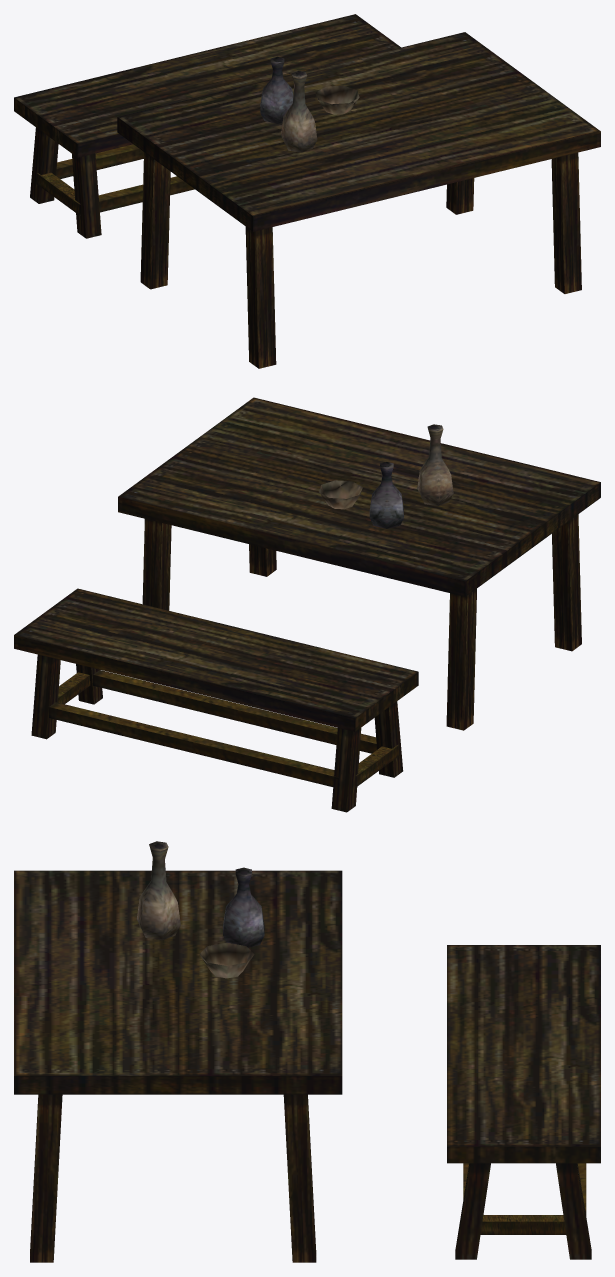
3 views of the same model, one above another, from view 1: azimuth 30°, elevation 25°; view 2: azimuth 150°, elevation 25°; view 3: azimuth 270°, elevation 25° (orthographic). The views are drawn at different scales.
Parts seen in each view (by area): view 1: Sphere01; view 2: Sphere01; view 3: Sphere01.
Boxes of the visible parts, x1=… form: Sphere01: x1=14, y1=14, x2=600, y2=368; Sphere01: x1=14, y1=397, x2=600, y2=812; Sphere01: x1=14, y1=841, x2=600, y2=1262.
Bounding box in the file's own units: 2.05 × 1.31 × 2.48.
